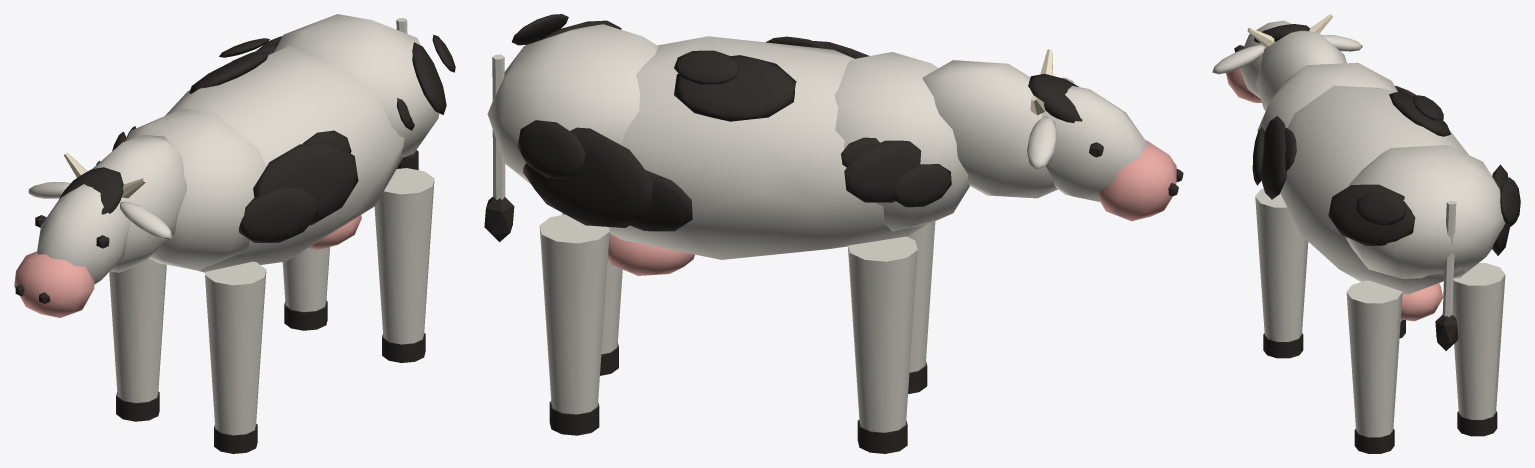
File: unlock-cow-ha.glb
The picture shows the model from 3 angles, left to right: view 1: azimuth 30°, elevation 25°; view 2: azimuth 150°, elevation 25°; view 3: azimuth 270°, elevation 25°; orthographic projection. The views are drawn at different scales.
Parts seen in each view (by area): view 1: unlock-cow-static, pivot.001-mesh, pivot.002-mesh; view 2: unlock-cow-static, pivot.001-mesh, pivot.002-mesh; view 3: unlock-cow-static, pivot.001-mesh, pivot.002-mesh.
Part boxes in pixels (box(x1,y1,x2,y2)): unlock-cow-static: box(96, 14, 455, 453); pivot.001-mesh: box(14, 135, 186, 317); pivot.002-mesh: box(396, 18, 418, 170); unlock-cow-static: box(487, 14, 969, 453); pivot.001-mesh: box(922, 49, 1183, 221); pivot.002-mesh: box(484, 54, 514, 241); unlock-cow-static: box(1252, 62, 1520, 453); pivot.001-mesh: box(1212, 14, 1362, 110); pivot.002-mesh: box(1435, 201, 1458, 350).
Size of the model in its own units: 0.7071 by 0.4319 by 0.4176.
